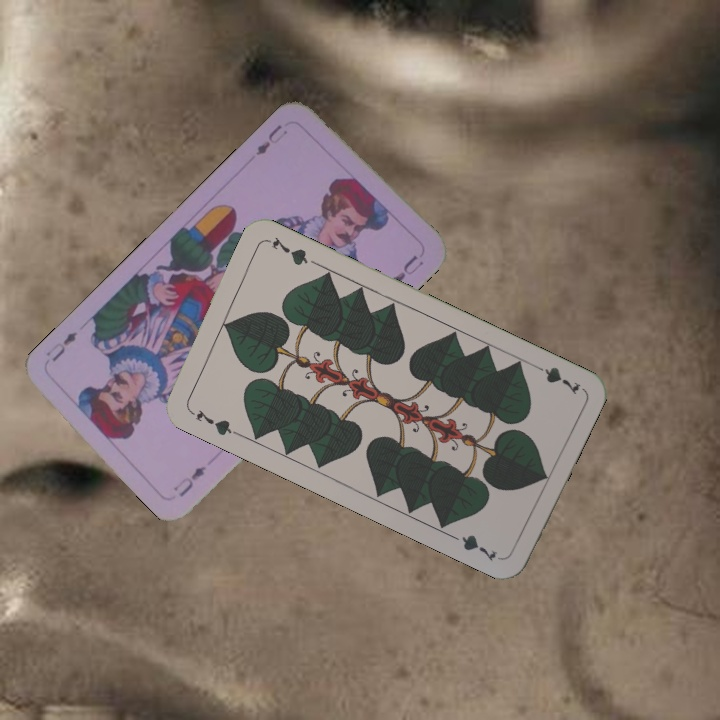EU: (168, 462, 209, 500), (252, 120, 290, 158)
G7: (528, 360, 583, 398), (185, 404, 241, 439)
